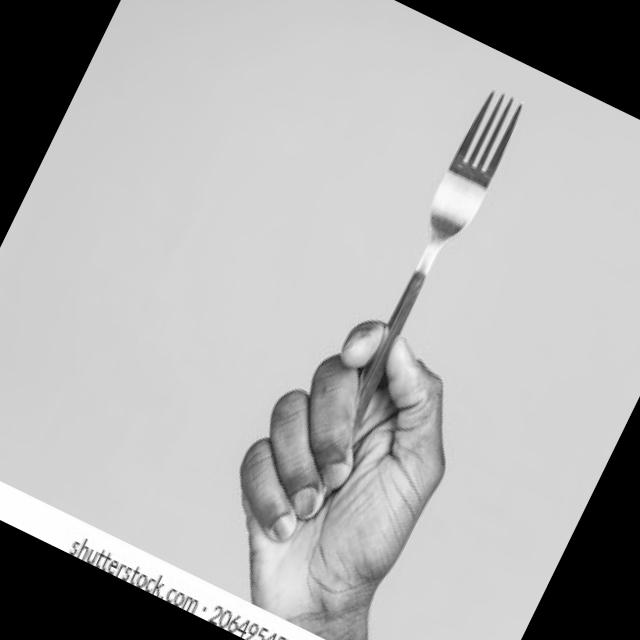fork: (284, 84, 529, 519)
